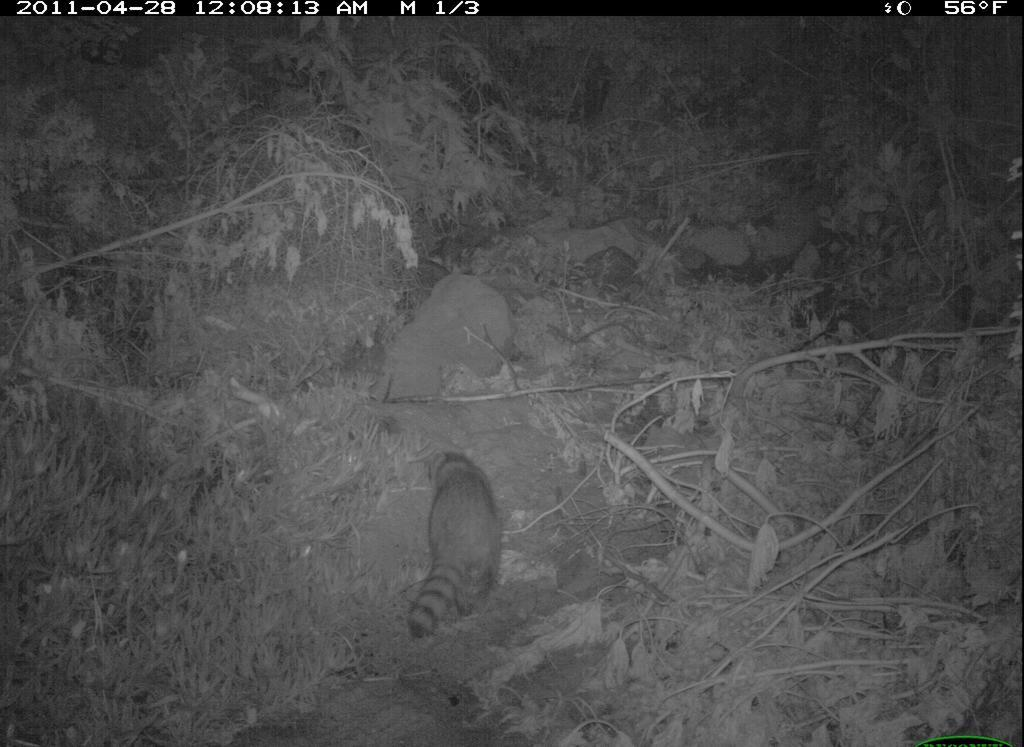raccoon: (399, 445, 516, 647)
